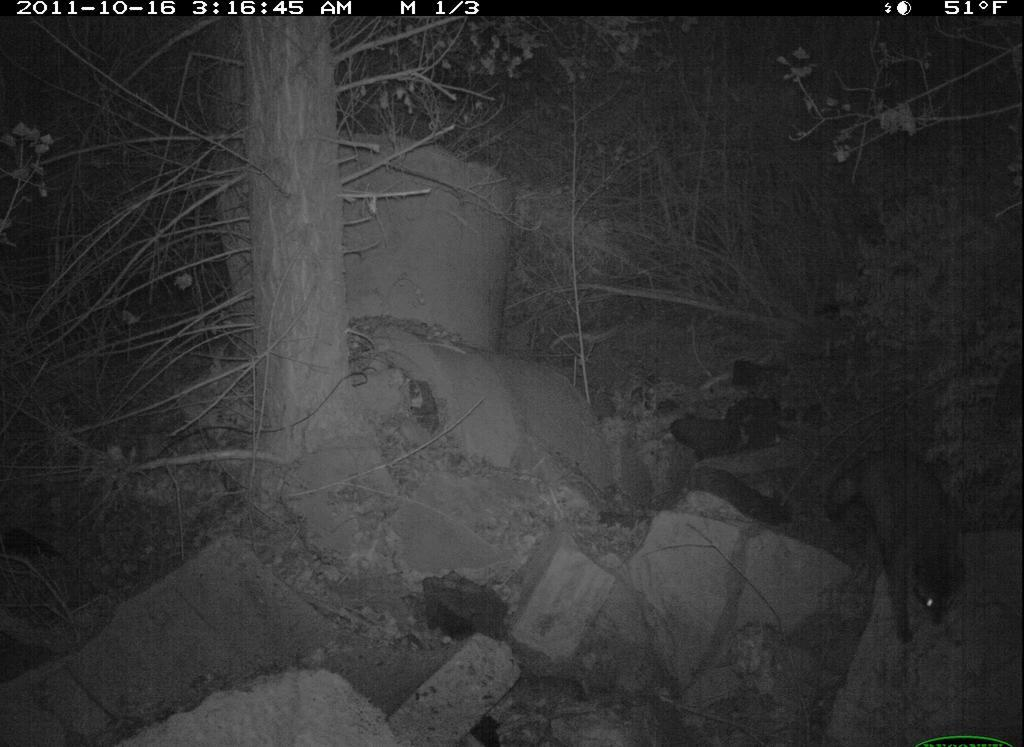raccoon: (820, 440, 971, 653)
